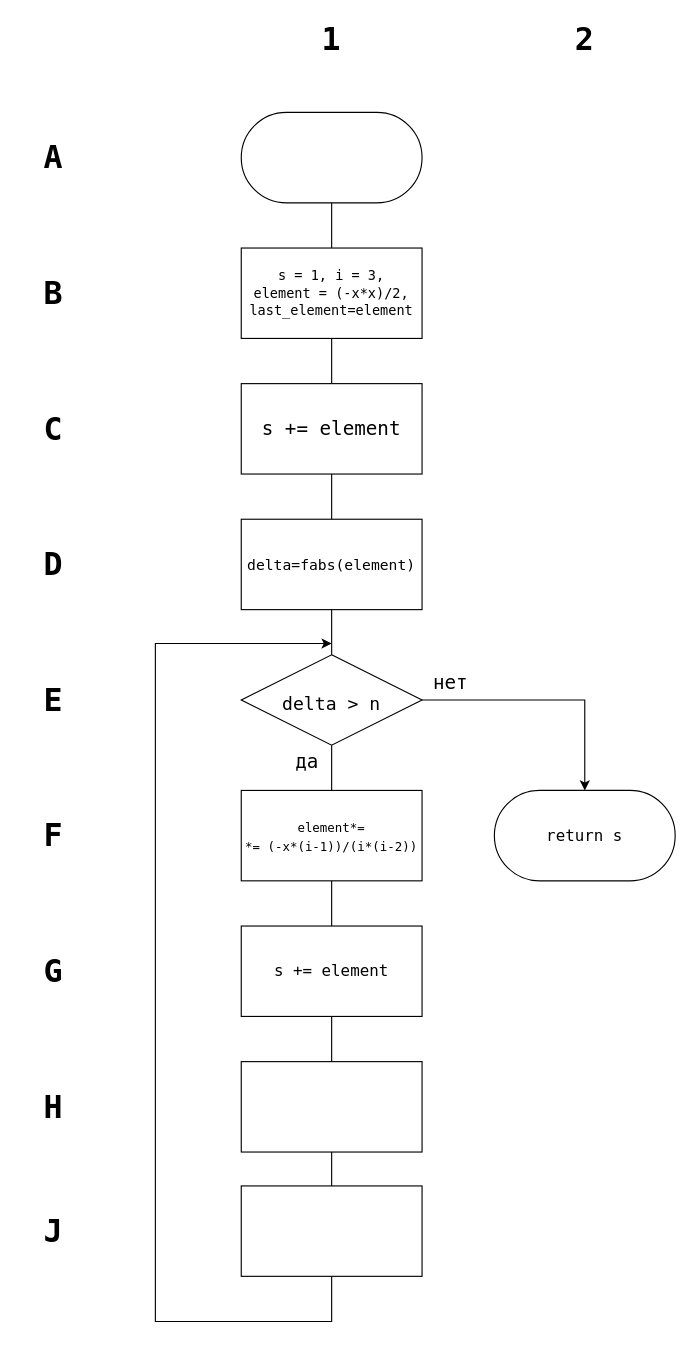
Image size: 695x1350. Some labels were removed from this diagram. The shapes that lost their labels are listed below. From the top down, each one's centre as x and y in pixels, then its label:
At point (331, 157): "function(x,n,*count)".
At point (331, 1106): "delta = = fasb(last_element - - element".
At point (331, 1230): "last_element=element, i += 1, *count += 1".
